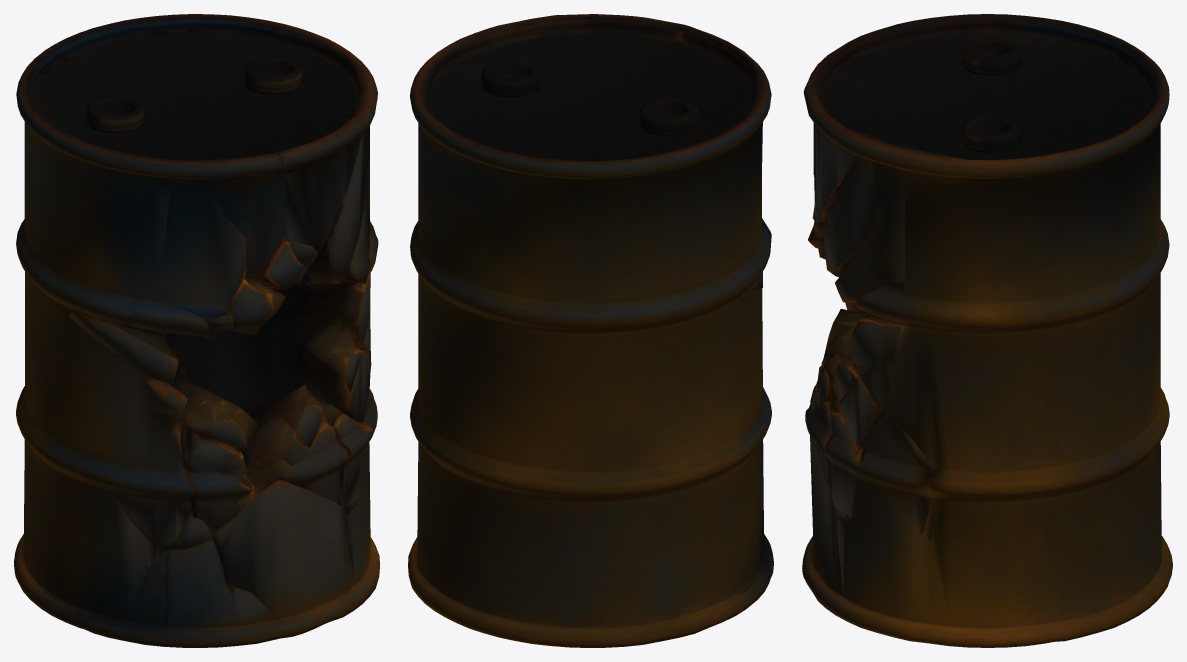
The model's file is crushed_oil_barrel_e450f43f_v4.glb.
The picture shows the model from 3 angles, left to right: view 1: azimuth 30°, elevation 25°; view 2: azimuth 150°, elevation 25°; view 3: azimuth 270°, elevation 25°; orthographic projection.
Visible parts, largest first — view 1: material; view 2: material; view 3: material.
Part boxes in pixels (<box>): material: <box>14,14,379,647</box>; material: <box>408,14,773,647</box>; material: <box>802,14,1172,647</box>.
Bounding box in the file's own units: 1.3 × 1.9 × 1.31.
Materials: 1 (1 with a texture image).
